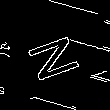N_W: (10, 32, 76, 88)
